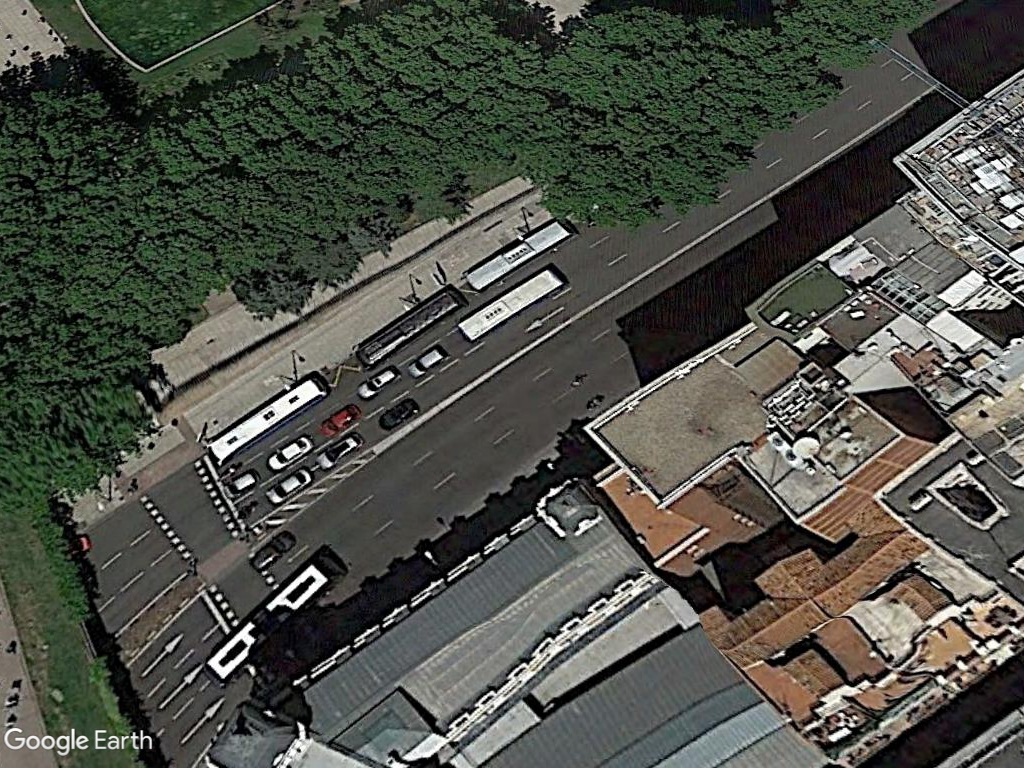car: (261, 434, 315, 474), (353, 364, 405, 403)
